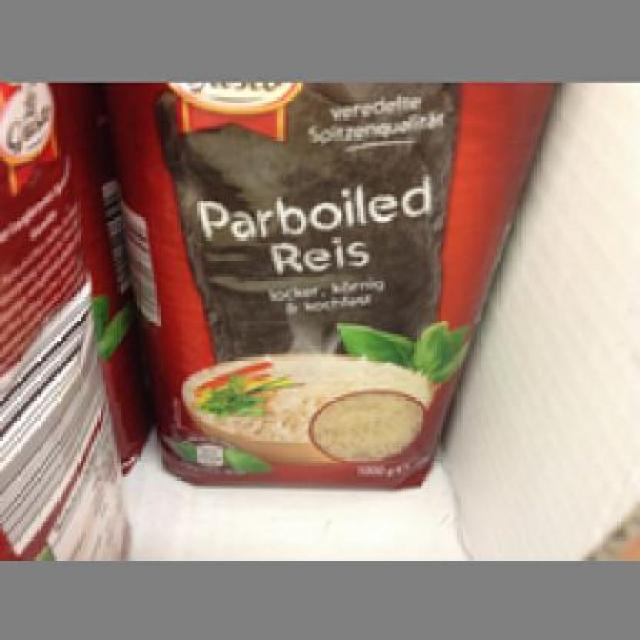Rice: (100, 80, 557, 486)
